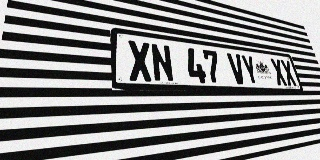4: (184, 47, 207, 83)
7: (201, 49, 223, 84)
N: (150, 43, 175, 82)
V: (227, 53, 247, 84)
X: (127, 40, 153, 82), (270, 58, 288, 86), (280, 60, 297, 86)
Y: (240, 54, 260, 85)
